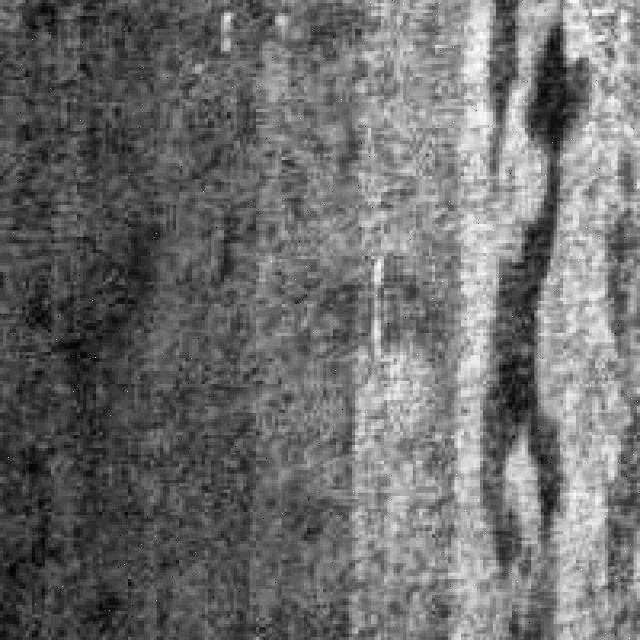Patches: (441, 0, 582, 630)
